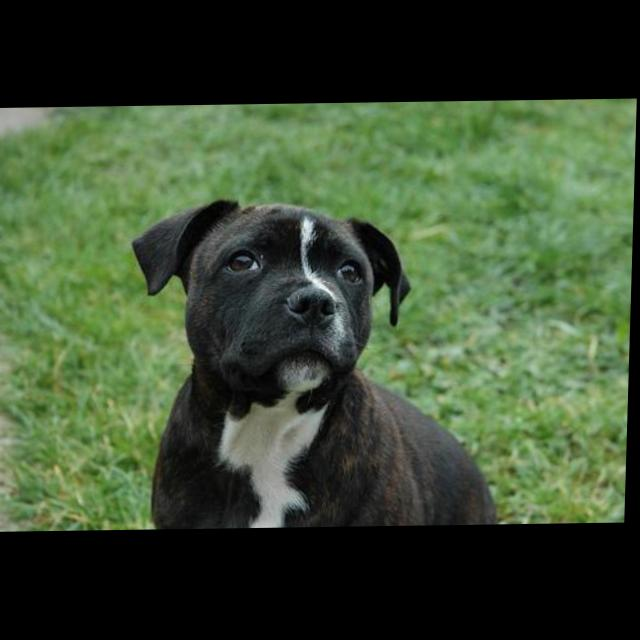amstaff: (127, 195, 518, 531)
